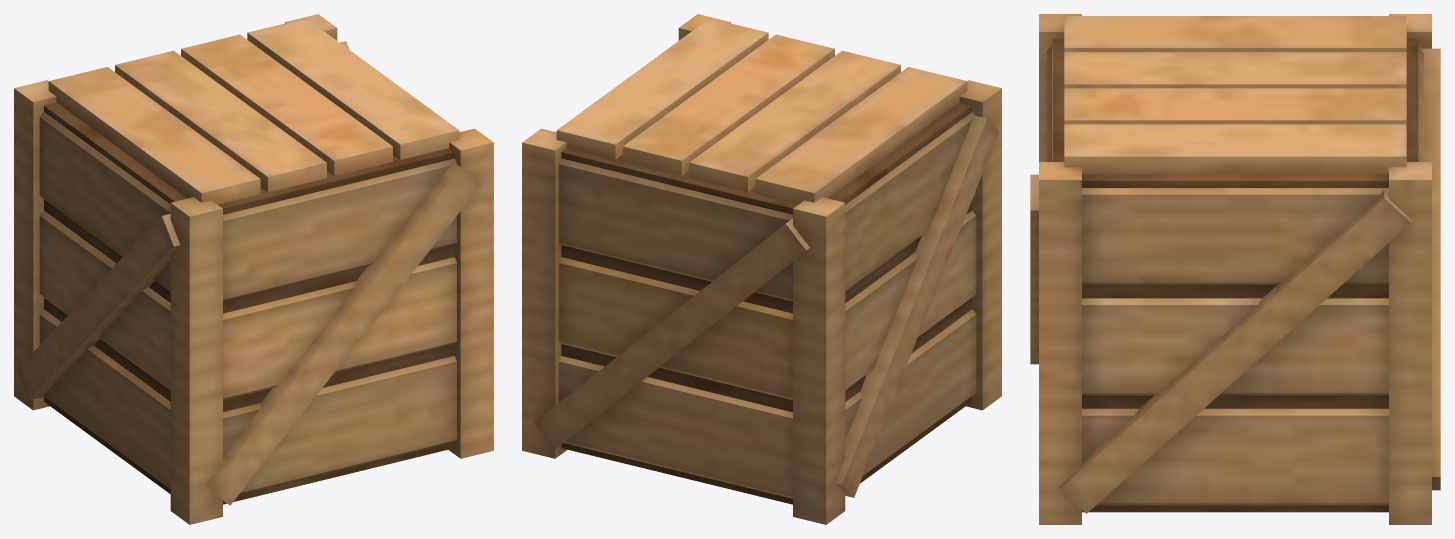
The model's file is crate_0_8.glb.
3 views of the same model, side by side, from view 1: azimuth 30°, elevation 25°; view 2: azimuth 150°, elevation 25°; view 3: azimuth 270°, elevation 25° (orthographic). The views are drawn at different scales.
Visible parts, largest first — view 1: box; view 2: box; view 3: box.
Part boxes in pixels (x1,y1,x2,y2): box: [14, 14, 493, 524]; box: [522, 14, 1001, 524]; box: [1030, 14, 1440, 524].
Size of the model in its own units: 0.862 by 0.825 by 0.862.
Materials: 1 (1 with a texture image).
